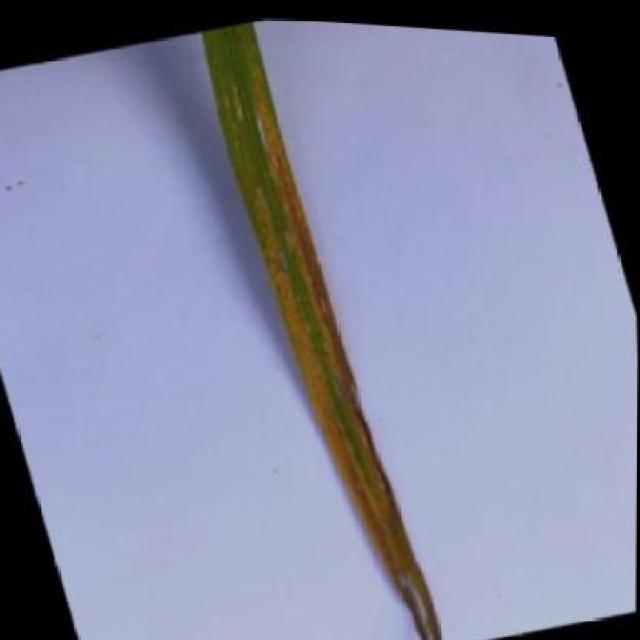Rice False Smut: (198, 12, 450, 640)
